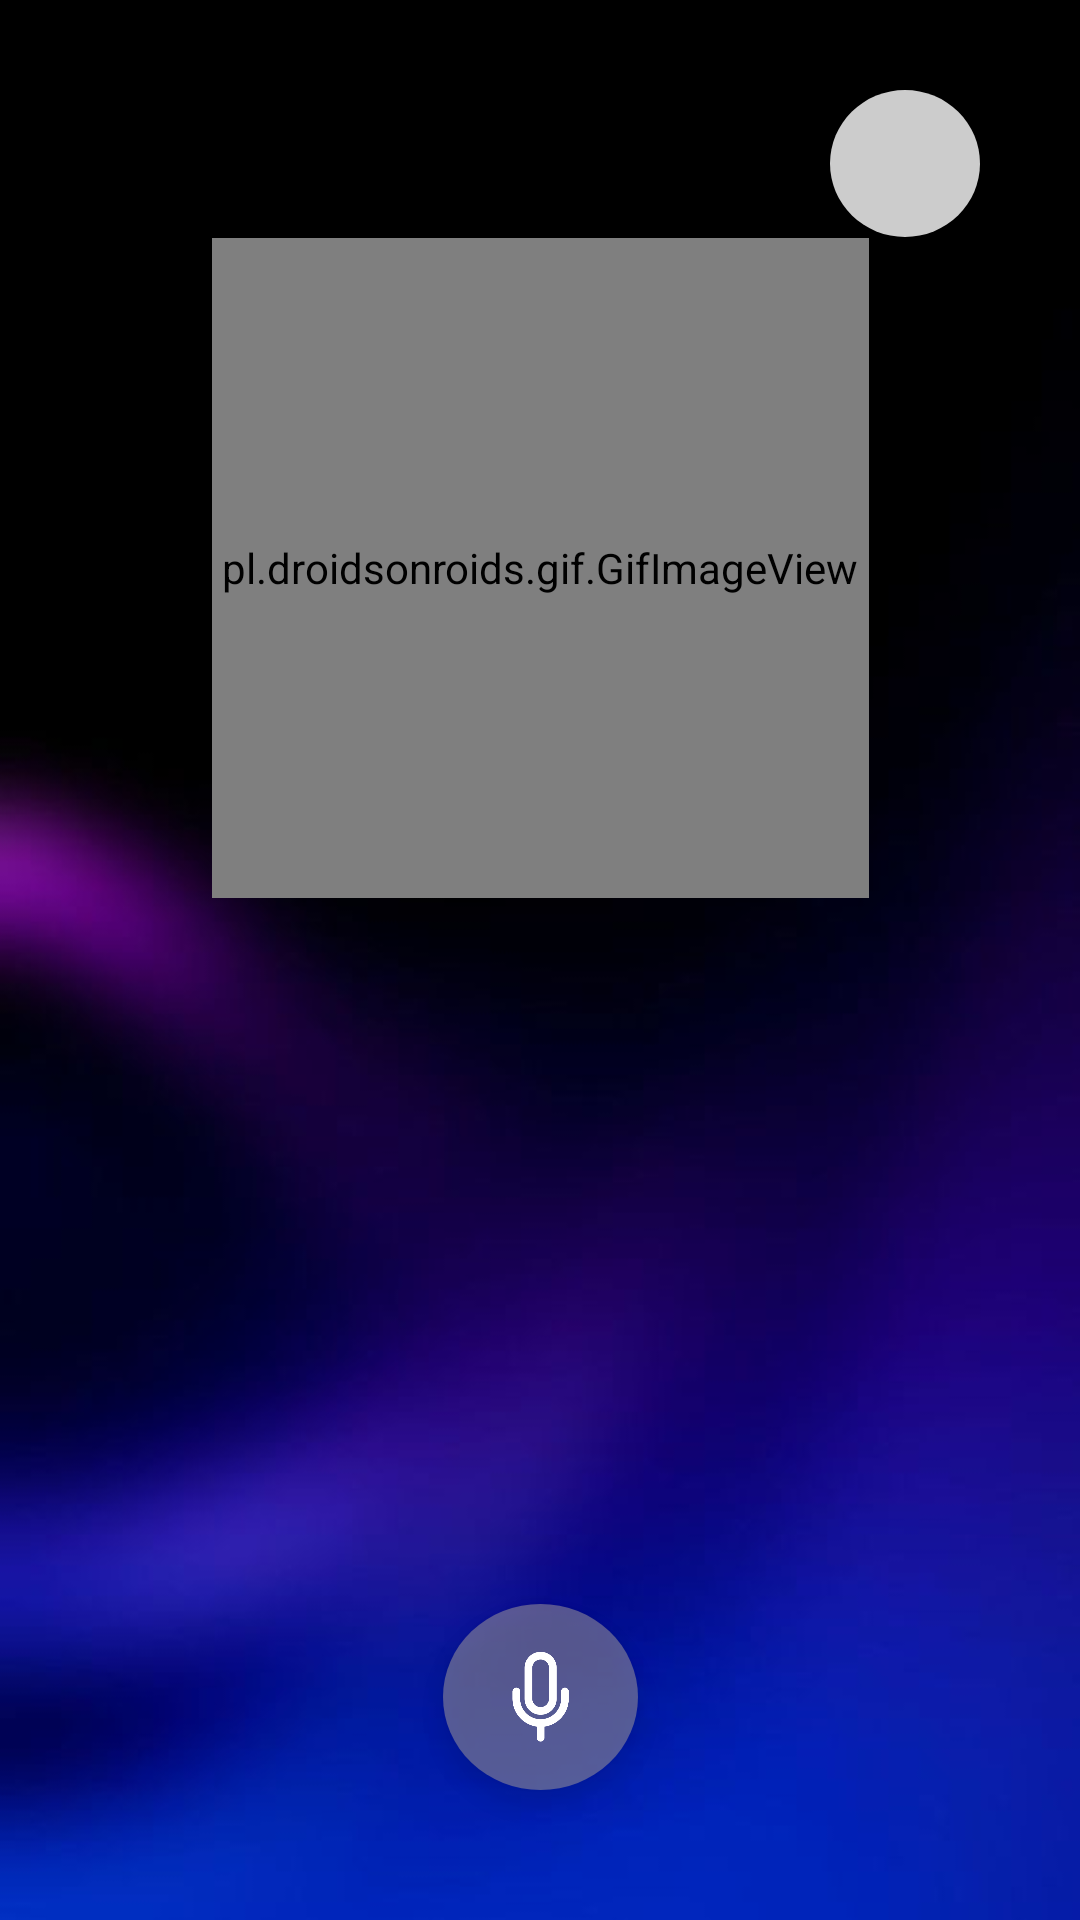

Icon click points for this 1080 x 1920 phone screenshot, format (x=x, y=y):
mic: (x=540, y=1697)
